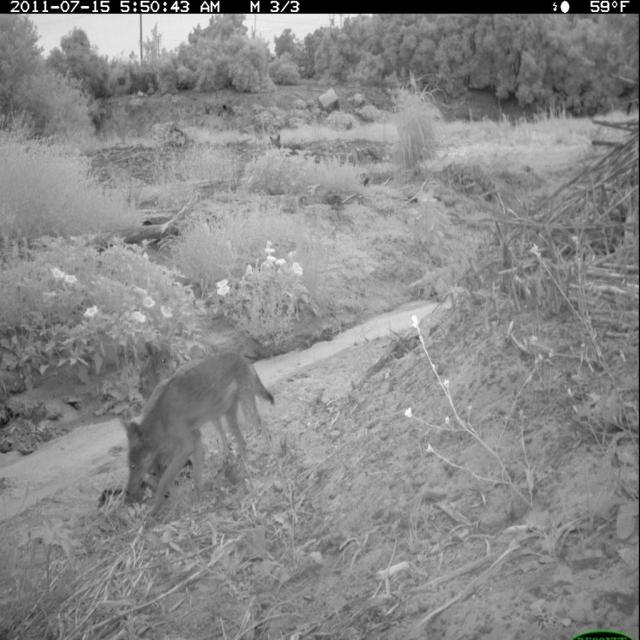coyote: (123, 345, 281, 521), (135, 338, 189, 414), (268, 134, 308, 160)
